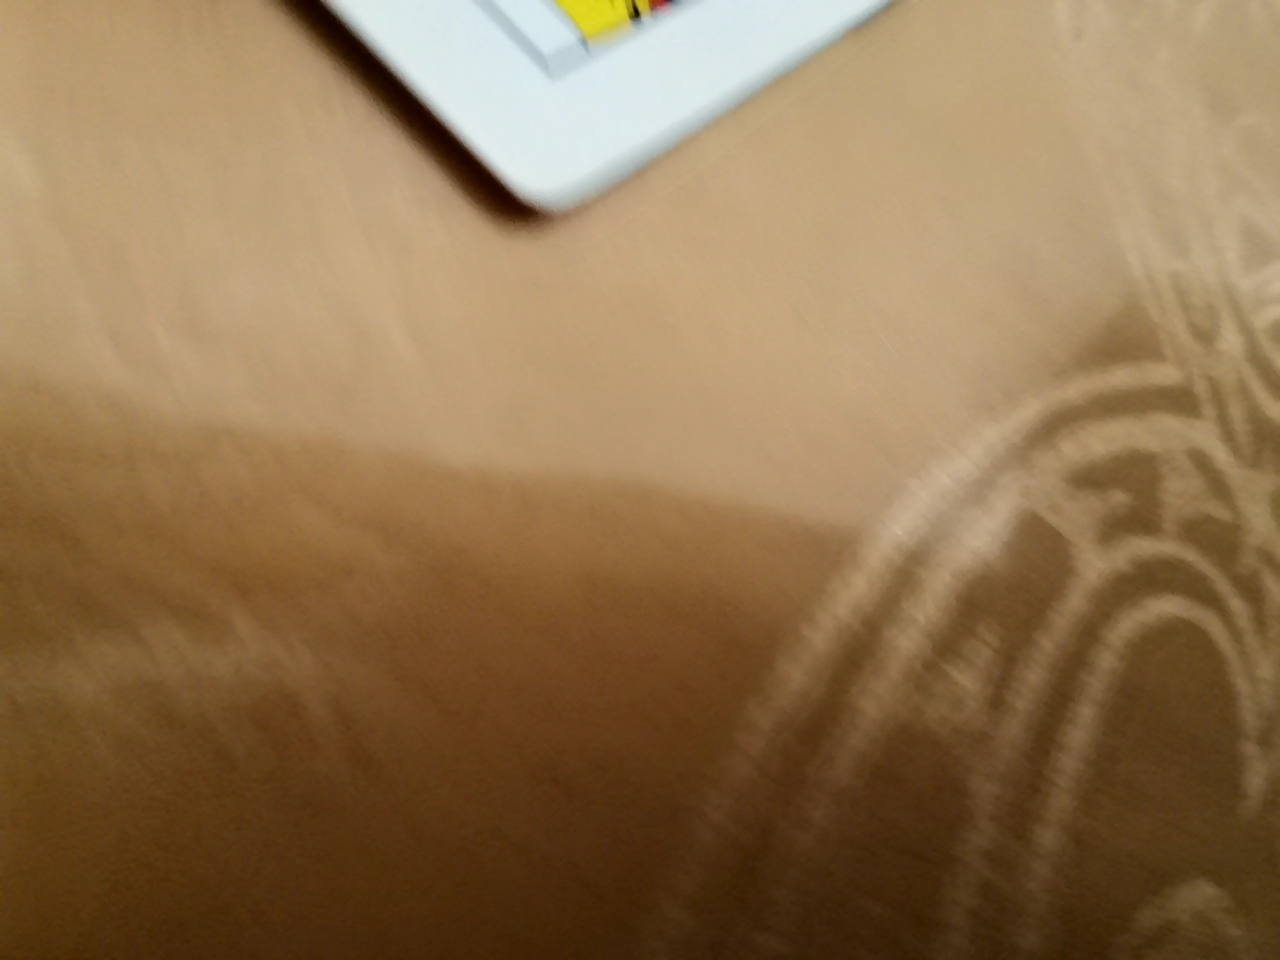hx q: (23, 0, 1051, 449)
